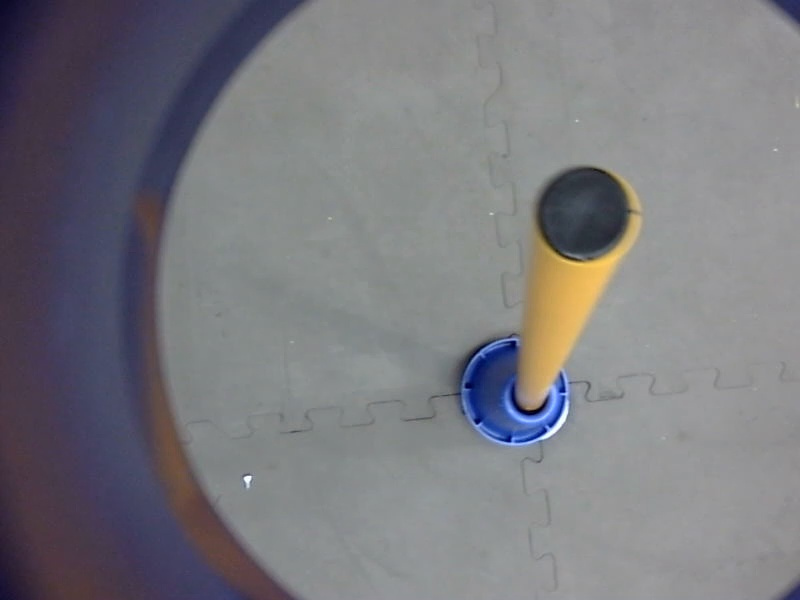tip: (528, 160, 648, 271)
